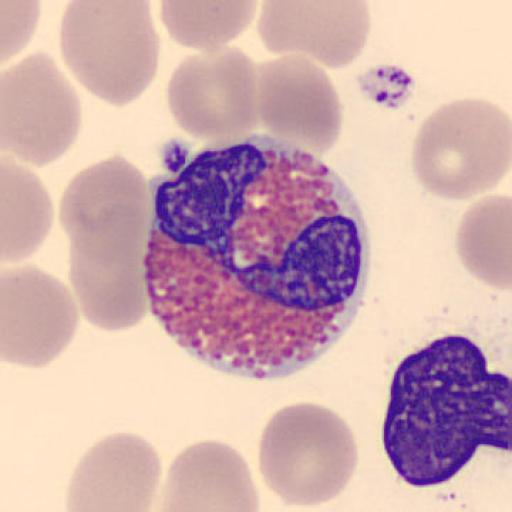Platelet: (354, 60, 420, 112)
RBC: (61, 152, 152, 334), (257, 399, 359, 509), (58, 1, 161, 109), (58, 152, 151, 270), (67, 204, 152, 333), (410, 96, 512, 203), (2, 50, 83, 167), (253, 54, 344, 158), (165, 47, 259, 145), (2, 264, 80, 370), (257, 0, 373, 71), (63, 431, 162, 512), (156, 437, 261, 512), (455, 192, 512, 292), (2, 158, 55, 265), (159, 0, 261, 52), (1, 0, 42, 68)
WBC: (142, 131, 370, 384), (377, 333, 512, 486)
